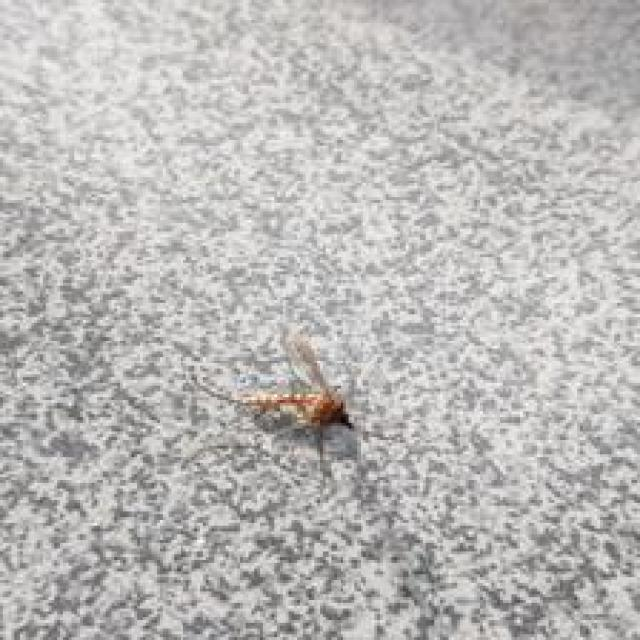Culex: (186, 324, 357, 462)
